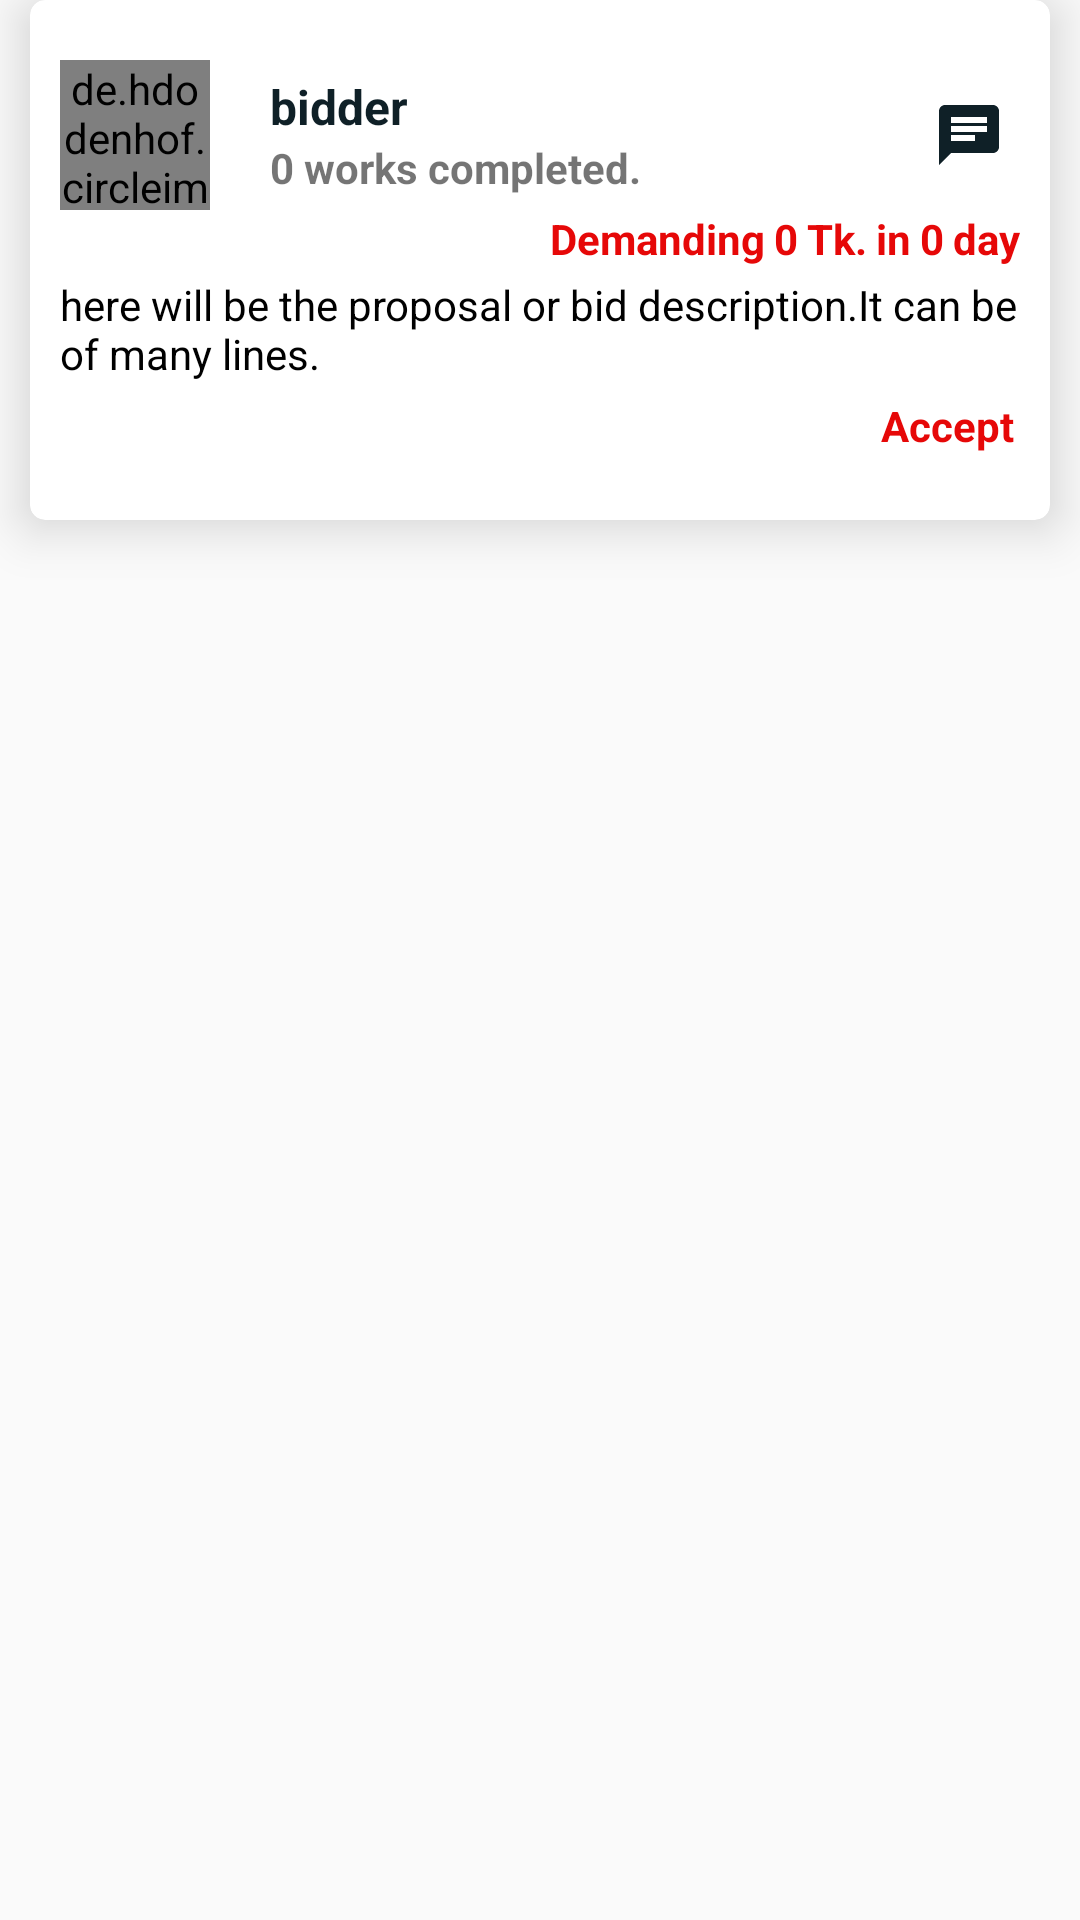

Icon bounding boxes for this 1080x1920 phone screenshot, format {"x1": x1, "y1": y1, "x2": x2, "y2": y2}:
chat: {"x1": 939, "y1": 105, "x2": 999, "y2": 165}
